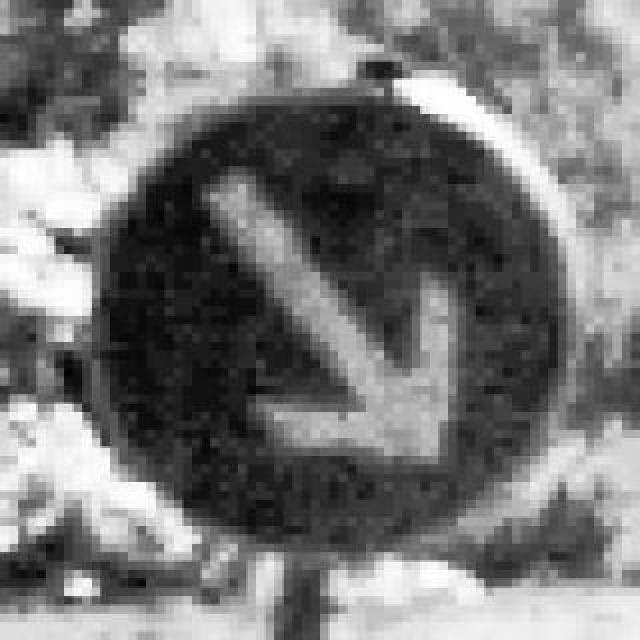keep right: (64, 62, 584, 562)
